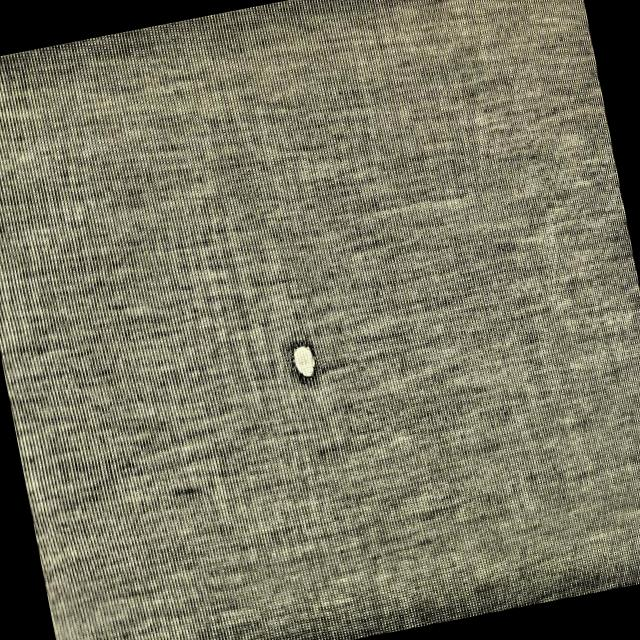cut: (275, 326, 337, 401)
